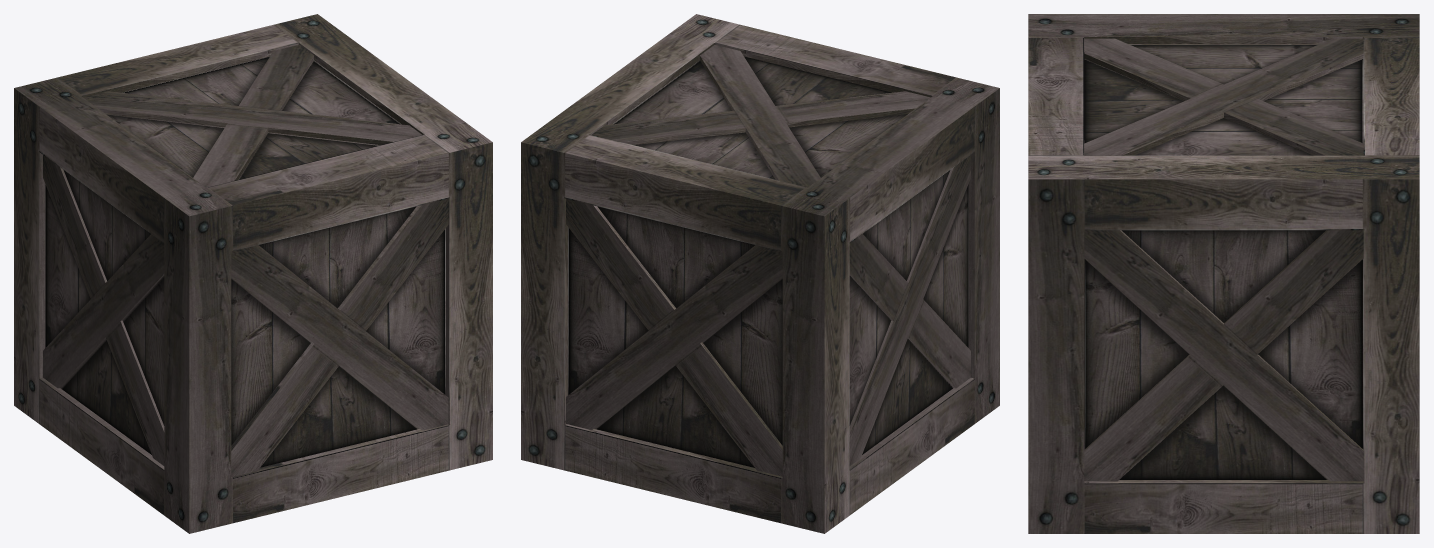
File: crateX.FBX
3 views of the same model, side by side, from view 1: azimuth 30°, elevation 25°; view 2: azimuth 150°, elevation 25°; view 3: azimuth 270°, elevation 25° (orthographic). The views are drawn at different scales.
Parts seen in each view (by area): view 1: Box002; view 2: Box002; view 3: Box002.
Boxes of the visible parts, box(x1,y1,x2,y2) form: Box002: box(14, 14, 492, 533); Box002: box(521, 14, 999, 533); Box002: box(1028, 14, 1419, 533).
Size of the model in its own units: 39.37 by 39.37 by 39.37.
